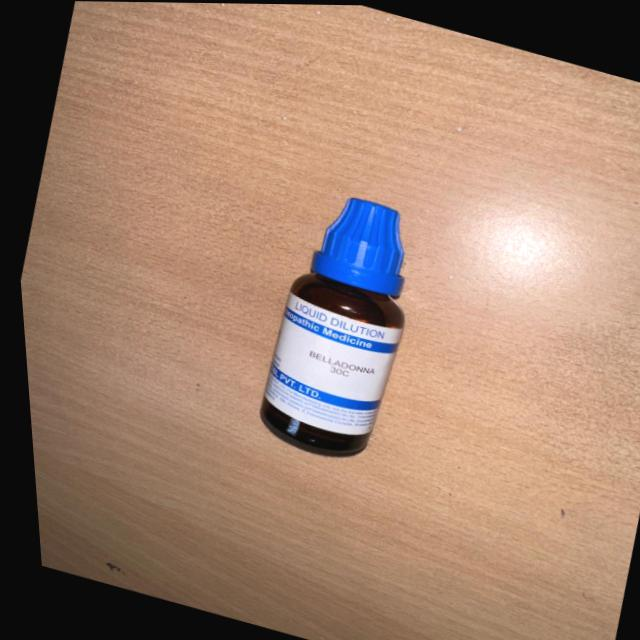medicine: (235, 172, 445, 460)
